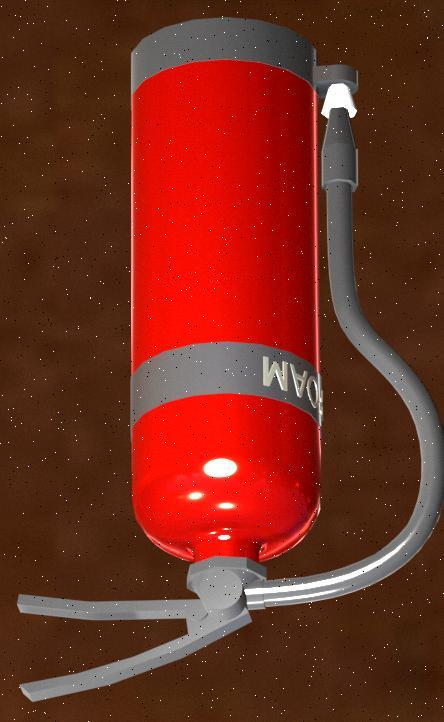Fire Extinguisher: (8, 14, 444, 712)
